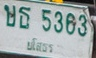txt19: (17, 4, 31, 30)
txt21: (3, 4, 17, 28)
